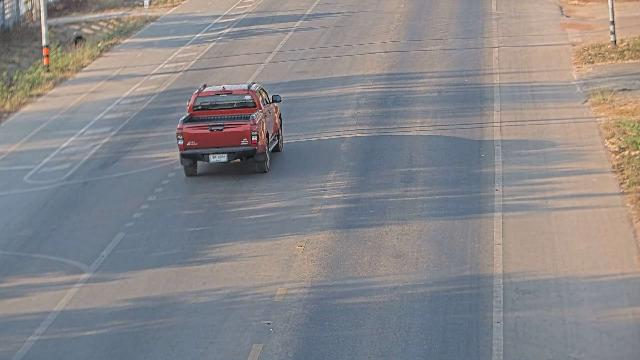pickup-truck: (175, 81, 283, 177)
